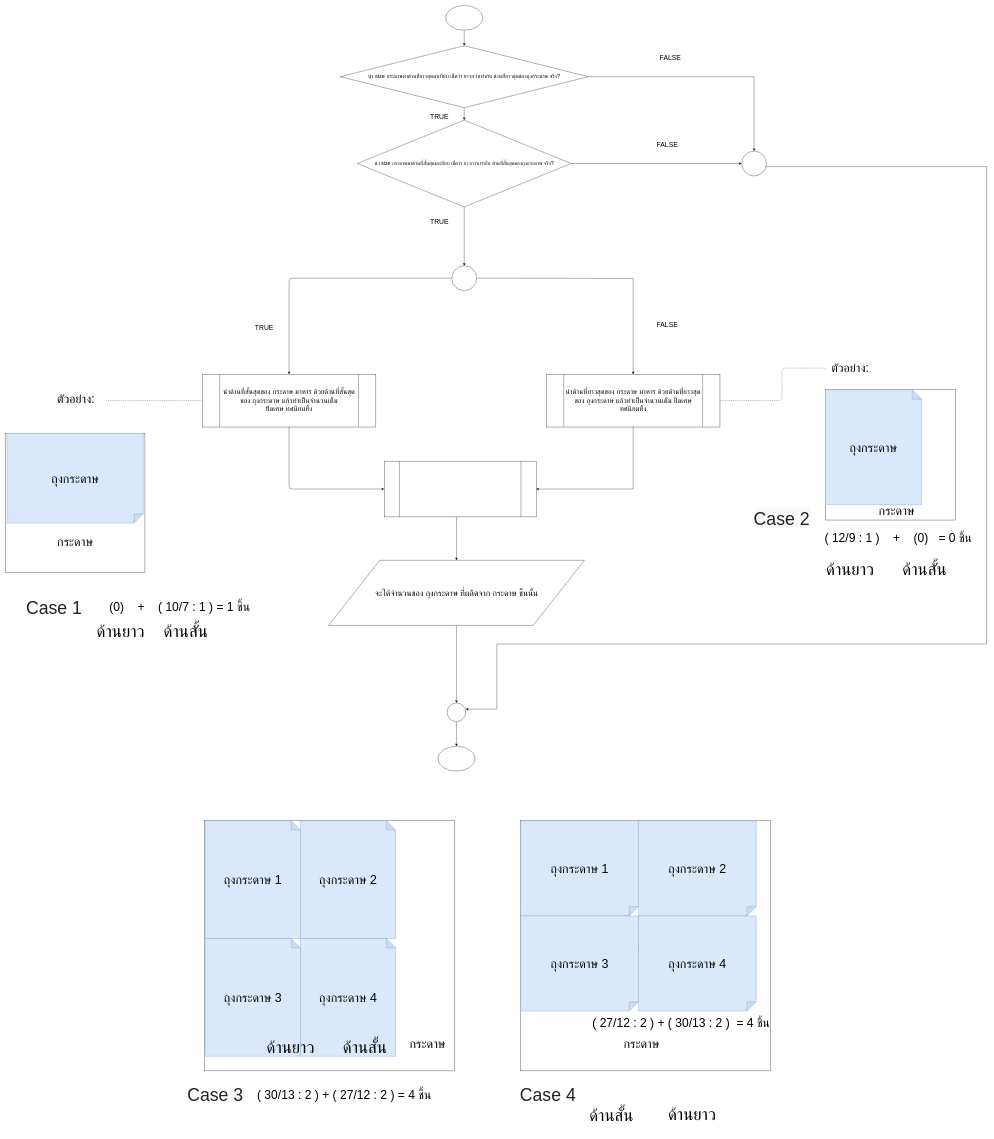
The diagram is 994 pixels wide and 1139 high, and some of its shapes have lost their labels. The centre of each missing label's shape, as x and y in pixels:
นำ สอง กรณีมาบวกกัน: (460,489)
สิ้นสุด: (456,758)
เริ่ม: (464,17)
